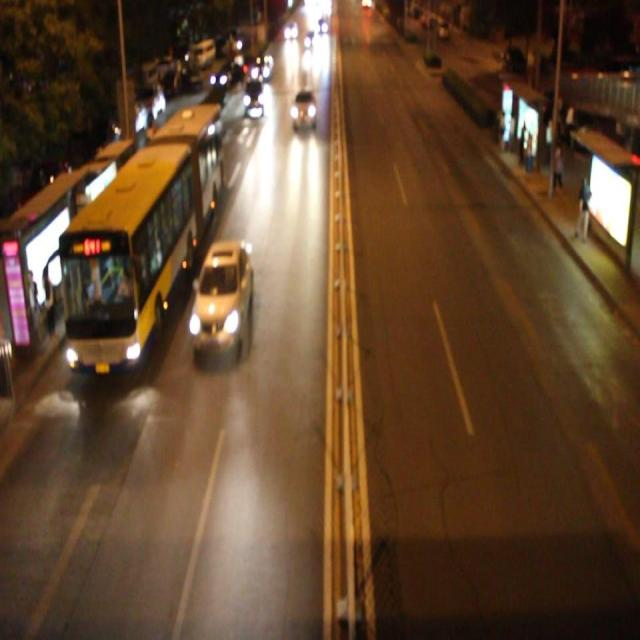car: (191, 242, 254, 347), (290, 88, 317, 128), (250, 50, 273, 82)
truck: (243, 75, 265, 111)
van: (58, 105, 223, 370)
